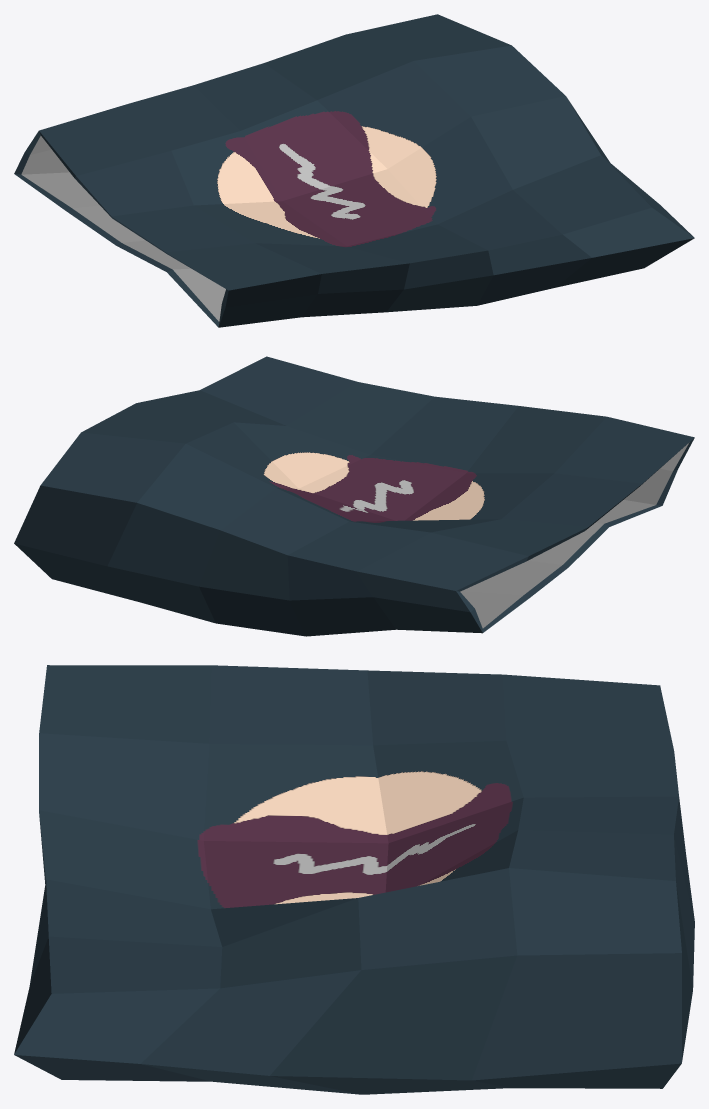
The model's file is bolsapatatas.fbx.
3 views of the same model, one above another, from view 1: azimuth 30°, elevation 25°; view 2: azimuth 150°, elevation 25°; view 3: azimuth 270°, elevation 25° (orthographic). The views are drawn at different scales.
Visible parts, largest first — view 1: Cube; view 2: Cube; view 3: Cube.
Part boxes in pixels (left/top/right/bottom): Cube: left=14, top=14, right=694, bottom=327; Cube: left=14, top=356, right=694, bottom=636; Cube: left=14, top=665, right=694, bottom=1094.
Bounding box in the file's own units: 214 × 51.05 × 186.
